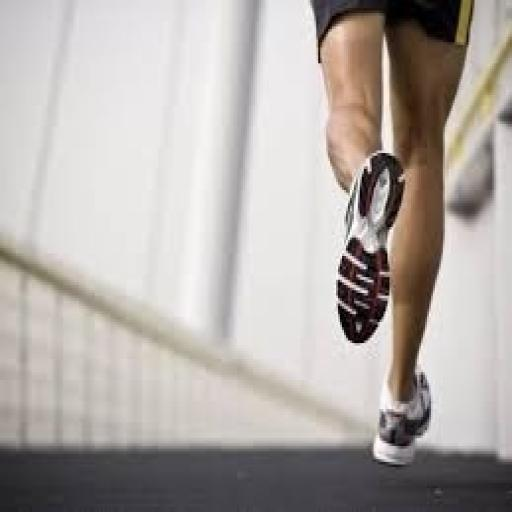running: (302, 0, 482, 470)
